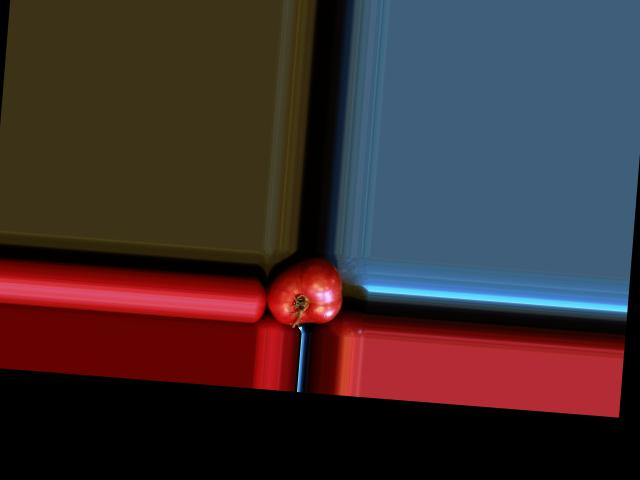tomato: (265, 253, 345, 328)
